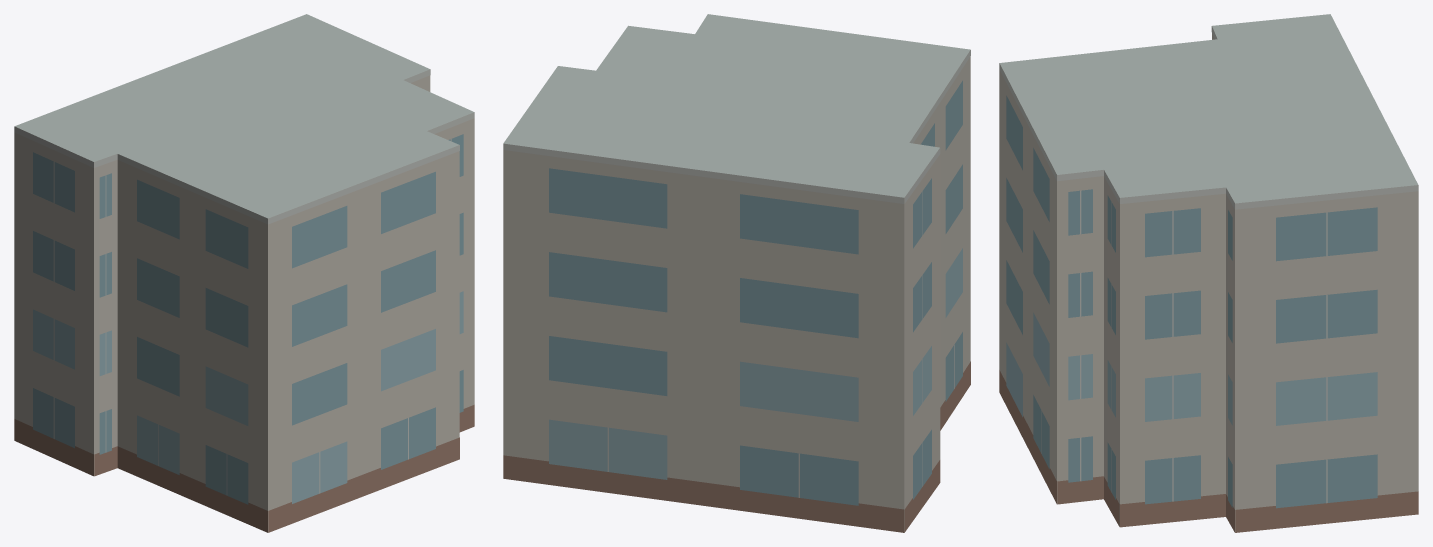
Rendered from survey-upis-32990315.glb.
The picture shows the model from 3 angles, left to right: view 1: azimuth 30°, elevation 25°; view 2: azimuth 150°, elevation 25°; view 3: azimuth 270°, elevation 25°; orthographic projection. The views are drawn at different scales.
Parts seen in each view (by area): view 1: survey-upis-32990315.tmp; view 2: survey-upis-32990315.tmp; view 3: survey-upis-32990315.tmp.
Part boxes in pixels (x1=…): survey-upis-32990315.tmp: x1=14, y1=14, x2=474, y2=532; survey-upis-32990315.tmp: x1=503, y1=14, x2=970, y2=532; survey-upis-32990315.tmp: x1=999, y1=14, x2=1418, y2=532.
Bounding box in the file's own units: 15.92 × 12.9 × 14.88.
